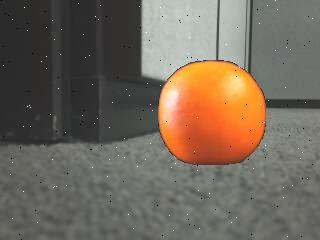Orange: (156, 59, 269, 169)
